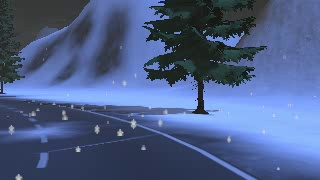Lane: (0, 97, 257, 179)
